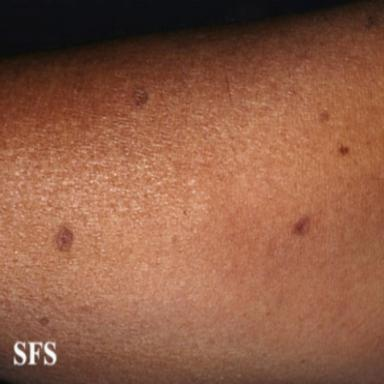Porokeratosis: (56, 227, 73, 251), (293, 216, 310, 236), (133, 88, 149, 106)
